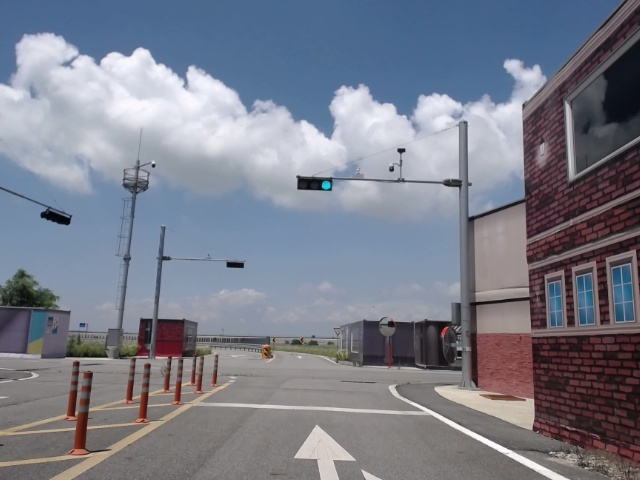green_3: (297, 178, 332, 190)
